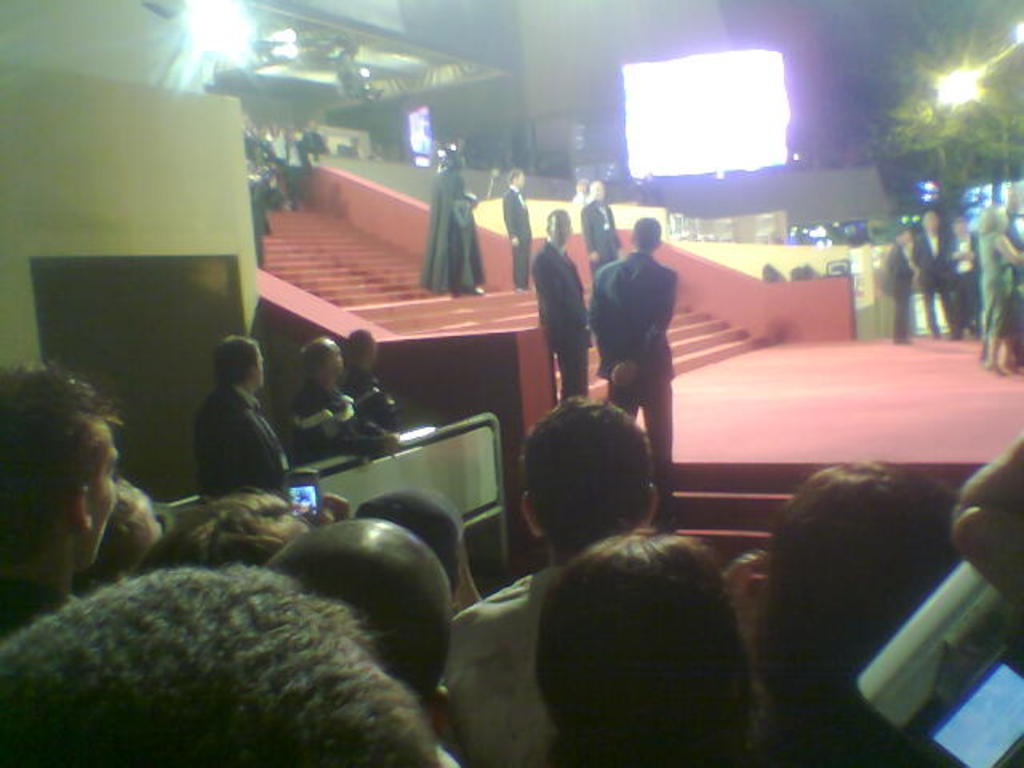Human-face: (94, 429, 117, 557)
